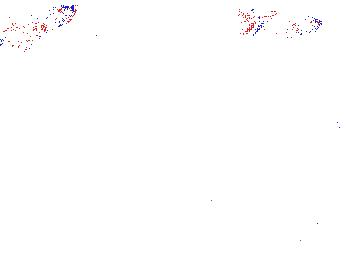glassfish: (217, 100, 324, 165)
redtail glassfish: (1, 4, 79, 47), (241, 7, 325, 41), (51, 72, 111, 109)
